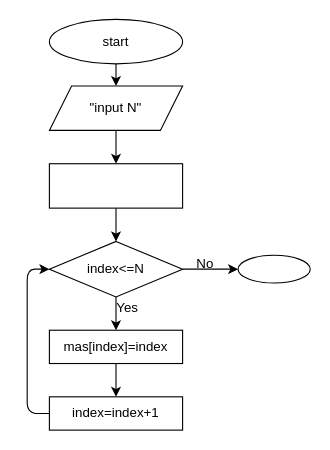
This 330x450 diagram has some shape labels left out. Each missing label, with the box of its shape:
end: (237, 254, 310, 283)
index=0-N mas[0]=0: (48, 163, 183, 208)
